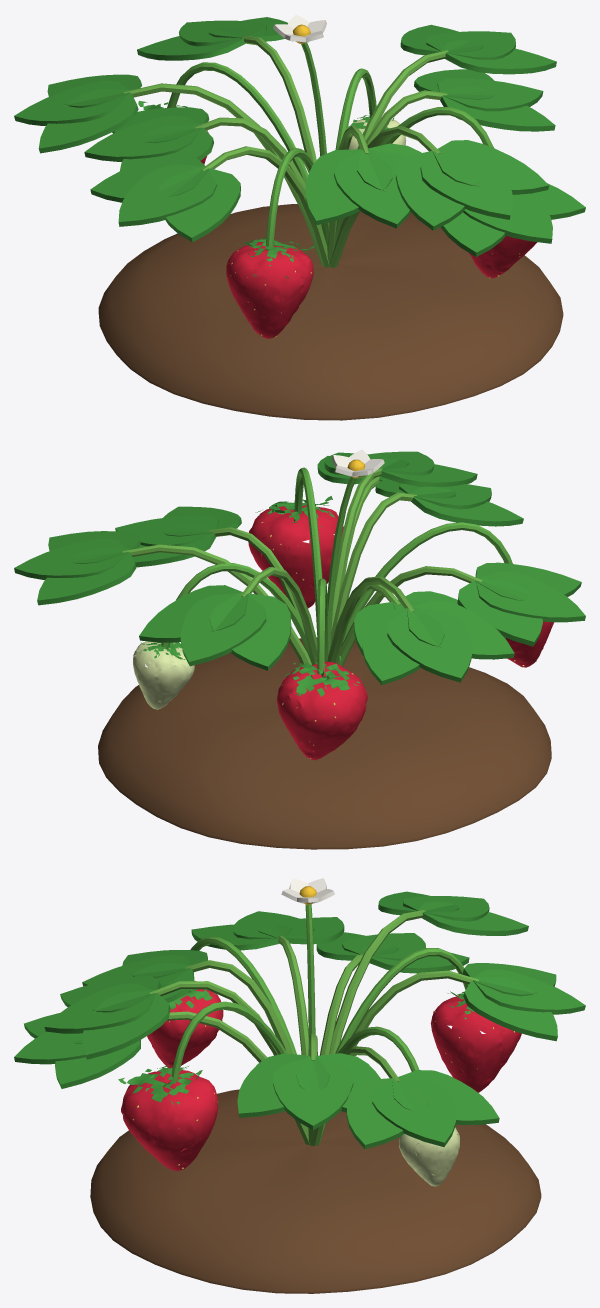
3 renders of one model, top to bottom at view 1: azimuth 30°, elevation 25°; view 2: azimuth 150°, elevation 25°; view 3: azimuth 270°, elevation 25°, orthographic. The views are drawn at different scales.
Parts seen in each view (by area): view 1: body; view 2: body; view 3: body.
Boxes of the visible parts, left/top/right/bottom form: body: left=14, top=14, right=585, bottom=420; body: left=14, top=449, right=585, bottom=849; body: left=14, top=878, right=585, bottom=1293.
Bounding box in the file's own units: 0.3213 × 0.1884 × 0.3298.
Materials: 1 (1 with a texture image).
